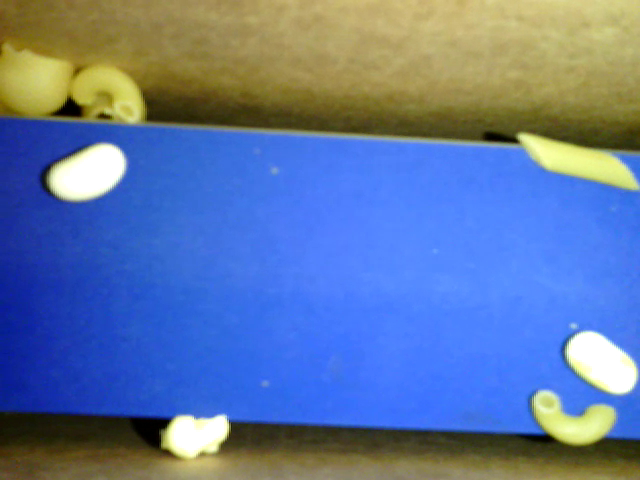elbow: (532, 390, 616, 444), (73, 61, 143, 123)
penne: (516, 128, 637, 191)
shell: (1, 41, 74, 117)
